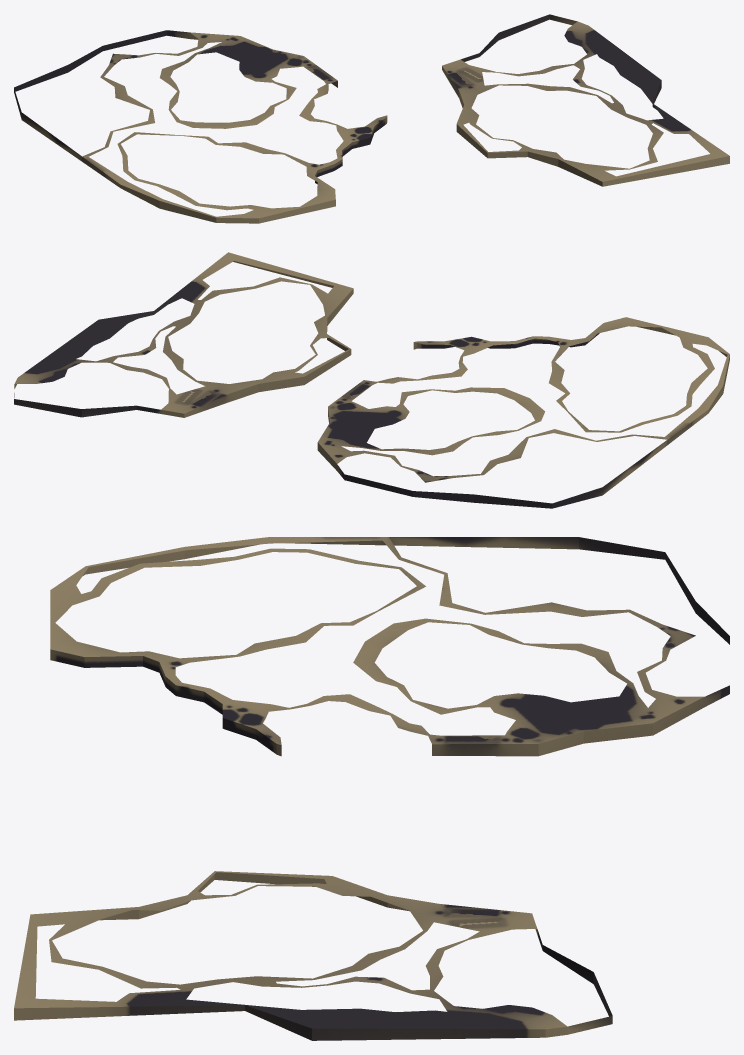
The model's file is Ground_01.FBX.
3 views of the same model, one above another, from view 1: azimuth 30°, elevation 25°; view 2: azimuth 150°, elevation 25°; view 3: azimuth 270°, elevation 25° (orthographic). The views are drawn at different scales.
Parts seen in each view (by area): view 1: Ground_01; view 2: Ground_01; view 3: Ground_01.
Part boxes in pixels (x1=…): Ground_01: x1=14, y1=14, x2=729, y2=223; Ground_01: x1=14, y1=252, x2=729, y2=508; Ground_01: x1=14, y1=537, x2=729, y2=1040.
Size of the model in its own units: 37.19 by 3.14 by 26.33.
